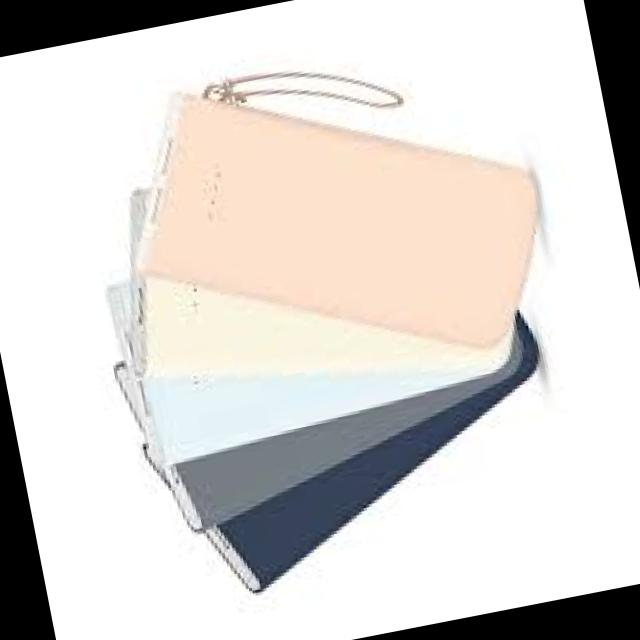portable-charger: (109, 27, 566, 405), (138, 306, 570, 612), (104, 128, 522, 438), (108, 274, 555, 540), (106, 205, 524, 468)
